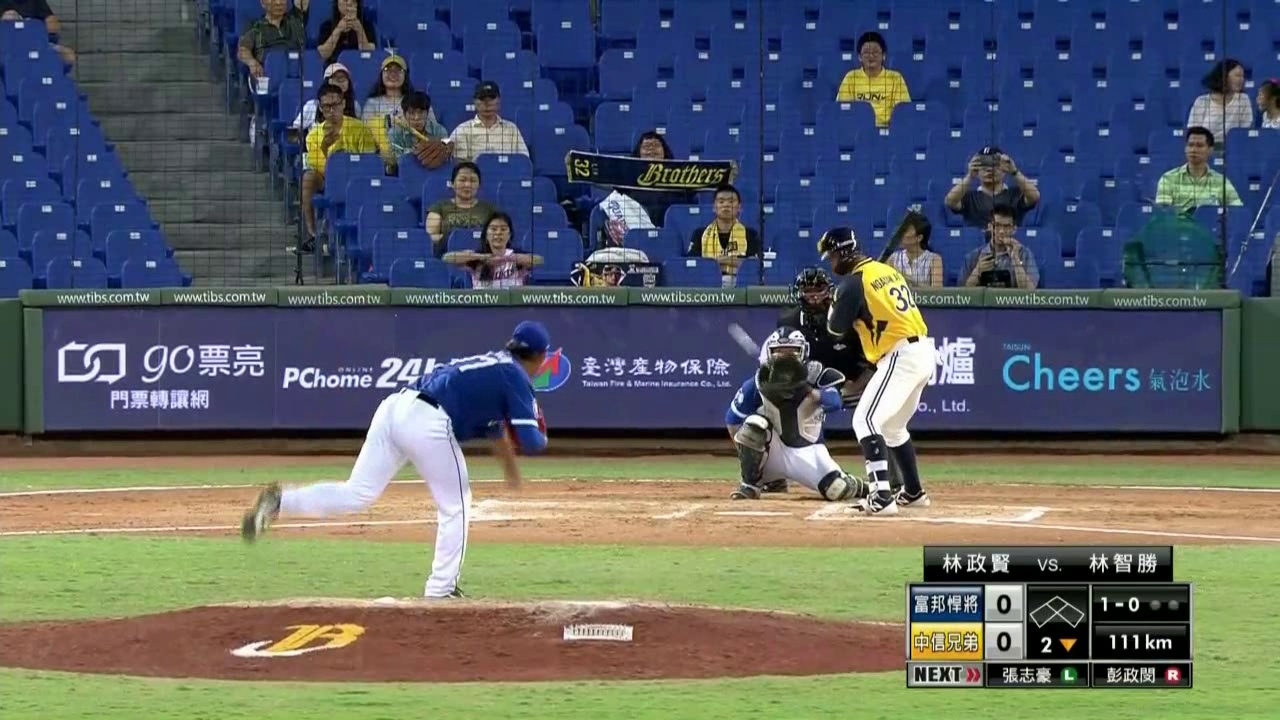ball: (733, 329, 755, 350)
base: (1026, 590, 1088, 628)
bat: (859, 199, 925, 298)
out: (1145, 587, 1187, 618)
score1: (985, 588, 1022, 619)
score2: (986, 625, 1023, 658)
session: (1028, 631, 1089, 657)
speed: (1100, 628, 1185, 655)
strikeball: (1093, 586, 1143, 621)
